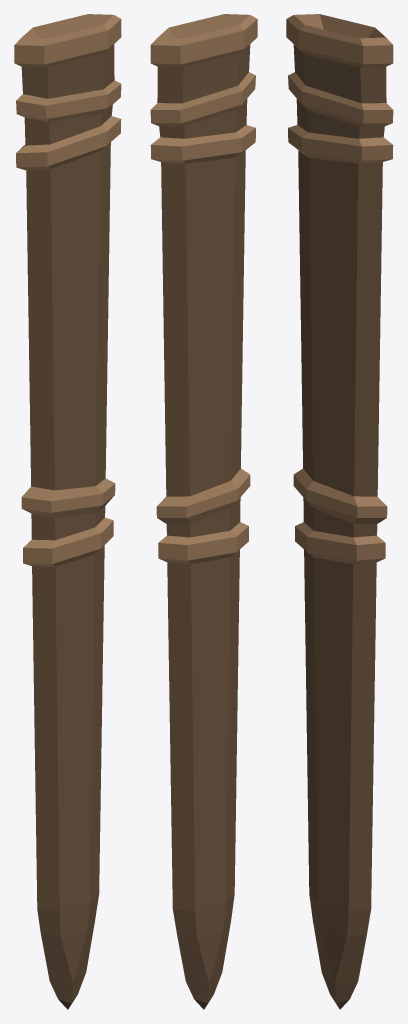
Rendered from SM_pwe_slavic_sword_scabbard_01.fbx.
The picture shows the model from 3 angles, left to right: view 1: azimuth 30°, elevation 25°; view 2: azimuth 210°, elevation 25°; view 3: azimuth 330°, elevation 25°; orthographic projection.
Visible parts, largest first — view 1: SM_pwe_slavic_sword_scabbard_01; view 2: SM_pwe_slavic_sword_scabbard_01; view 3: SM_pwe_slavic_sword_scabbard_01.
Boxes of the visible parts, box(x1,y1,x2,y2) form: SM_pwe_slavic_sword_scabbard_01: box(14, 14, 121, 1009); SM_pwe_slavic_sword_scabbard_01: box(150, 14, 257, 1009); SM_pwe_slavic_sword_scabbard_01: box(286, 14, 393, 1009).
Size of the model in its own units: 9.3 by 81.73 by 2.58.
